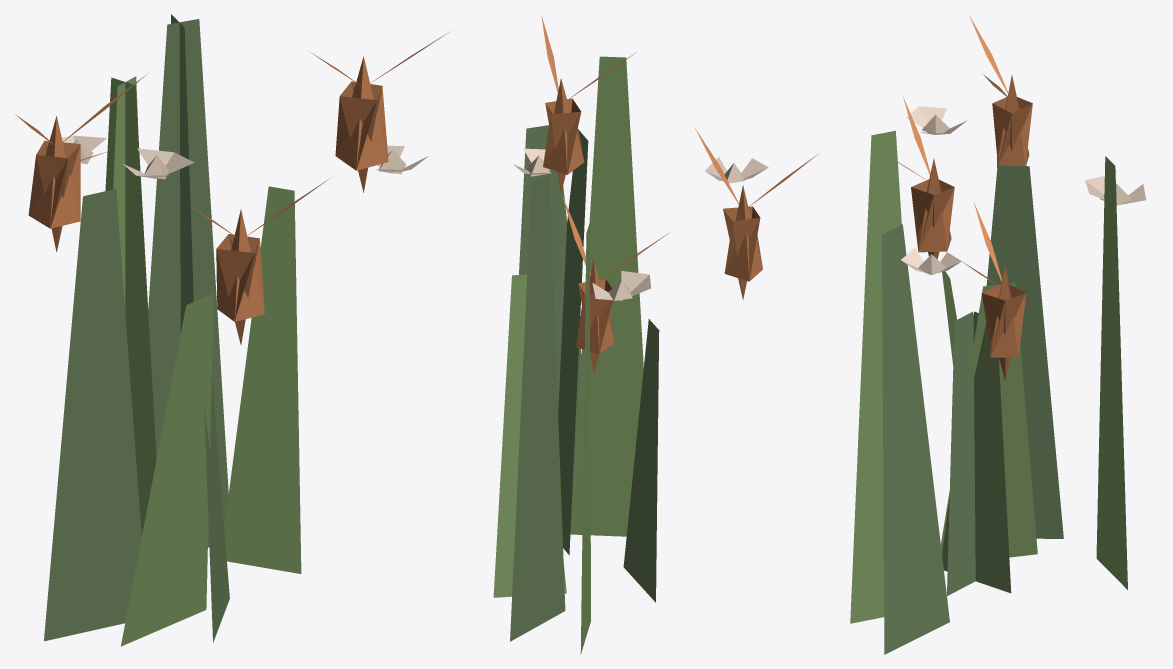
Rendered from nong.dao__summer.glb.
The picture shows the model from 3 angles, left to right: view 1: azimuth 30°, elevation 25°; view 2: azimuth 150°, elevation 25°; view 3: azimuth 270°, elevation 25°; orthographic projection. The views are drawn at different scales.
Visible parts, largest first — view 1: nong.dao__summer; view 2: nong.dao__summer; view 3: nong.dao__summer.
Boxes of the visible parts, box(x1,y1,x2,y2) form: nong.dao__summer: box(15, 14, 448, 646); nong.dao__summer: box(493, 15, 819, 654); nong.dao__summer: box(850, 15, 1146, 654).
Bounding box in the file's own units: 0.7368 × 1.07 × 0.5942.
